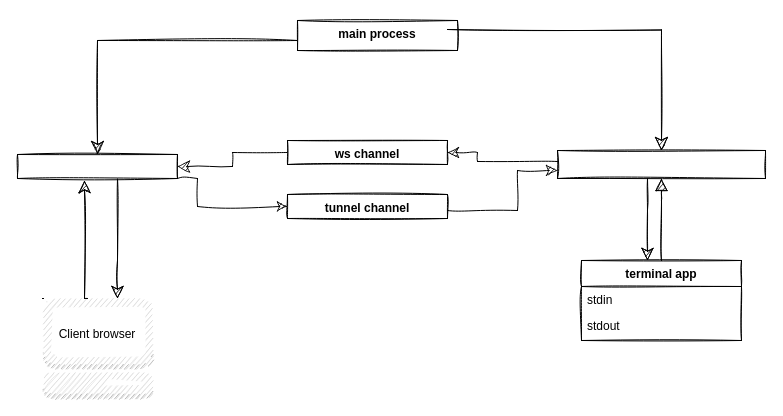
The diagram is 783 pixels wide and 416 high, and some of its shapes have lost their labels. Here are the shapes that lost their labels. From the top down, the centre of each, then its label:
the point at 97,166: websocket
the point at 661,164: tunnel (interacting with terminal)
